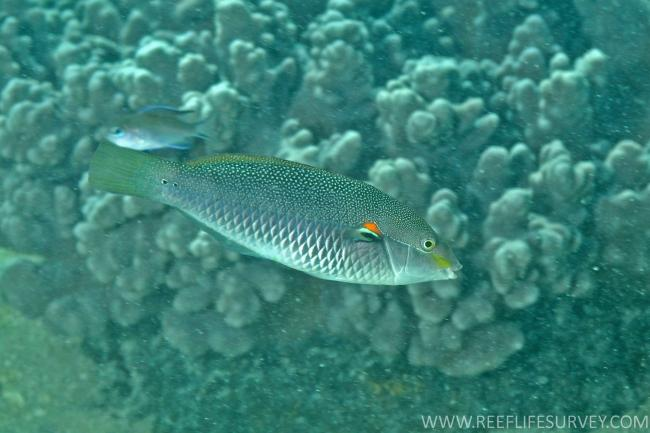fish: (88, 137, 463, 287)
